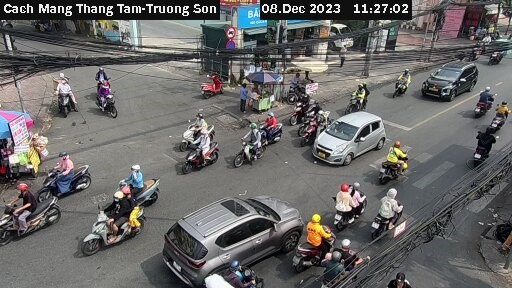car: (161, 190, 304, 278), (311, 109, 390, 166), (420, 56, 483, 100)
motorbike: (1, 191, 58, 241), (38, 152, 102, 194), (85, 206, 143, 251), (106, 173, 163, 210), (377, 196, 417, 243), (332, 186, 376, 228), (294, 219, 336, 260), (331, 84, 379, 118), (470, 132, 507, 174), (176, 116, 222, 149), (381, 147, 420, 185), (323, 240, 373, 269), (92, 87, 132, 122), (250, 112, 288, 146), (231, 132, 268, 165), (386, 68, 422, 101), (87, 65, 125, 96), (182, 138, 217, 171), (52, 81, 82, 119), (486, 102, 512, 137), (473, 91, 496, 120)
